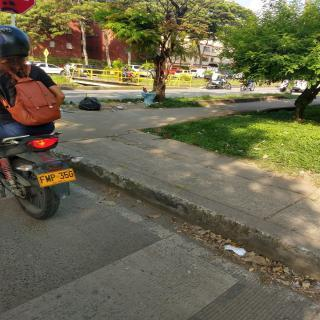Garbage: (78, 94, 105, 113)
